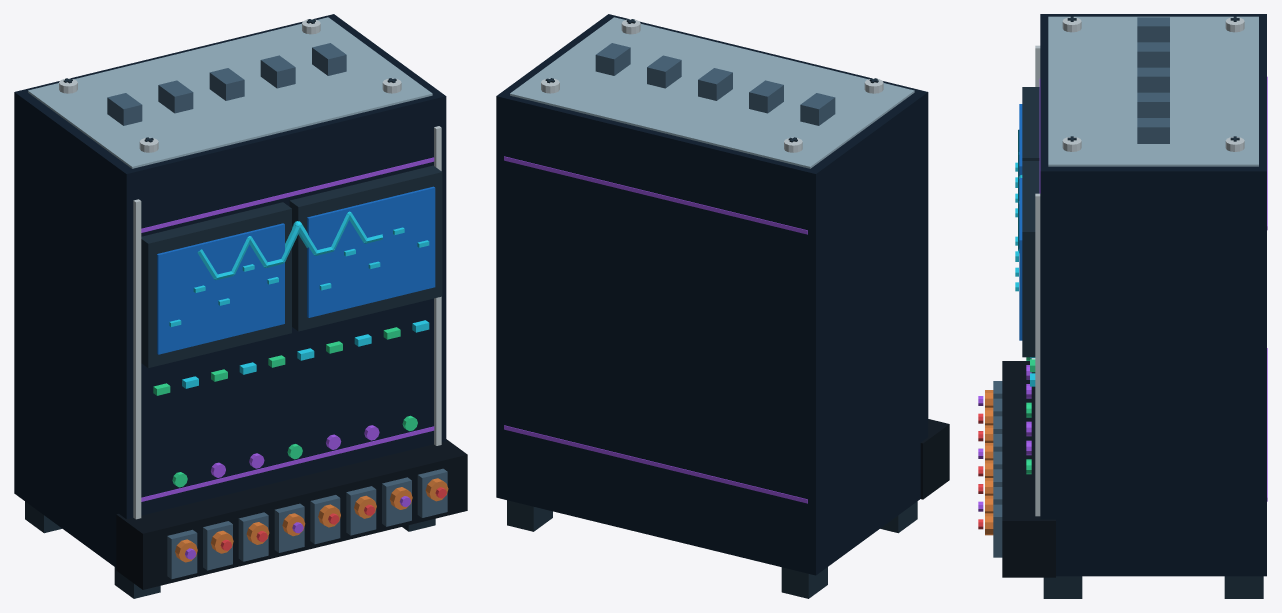
The model's file is 56_L76_PlatingWaveformProcessController.fbx.
3 views of the same model, side by side, from view 1: azimuth 30°, elevation 25°; view 2: azimuth 150°, elevation 25°; view 3: azimuth 270°, elevation 25° (orthographic).
Visible parts, largest first — view 1: PlatingWaveformProcessController; view 2: PlatingWaveformProcessController; view 3: PlatingWaveformProcessController.
Boxes of the visible parts, bbox=[...] form: PlatingWaveformProcessController: bbox=[14, 14, 467, 598]; PlatingWaveformProcessController: bbox=[496, 14, 949, 598]; PlatingWaveformProcessController: bbox=[978, 14, 1267, 598].
Bounding box in the file's own units: 127 × 167 × 97.04.
